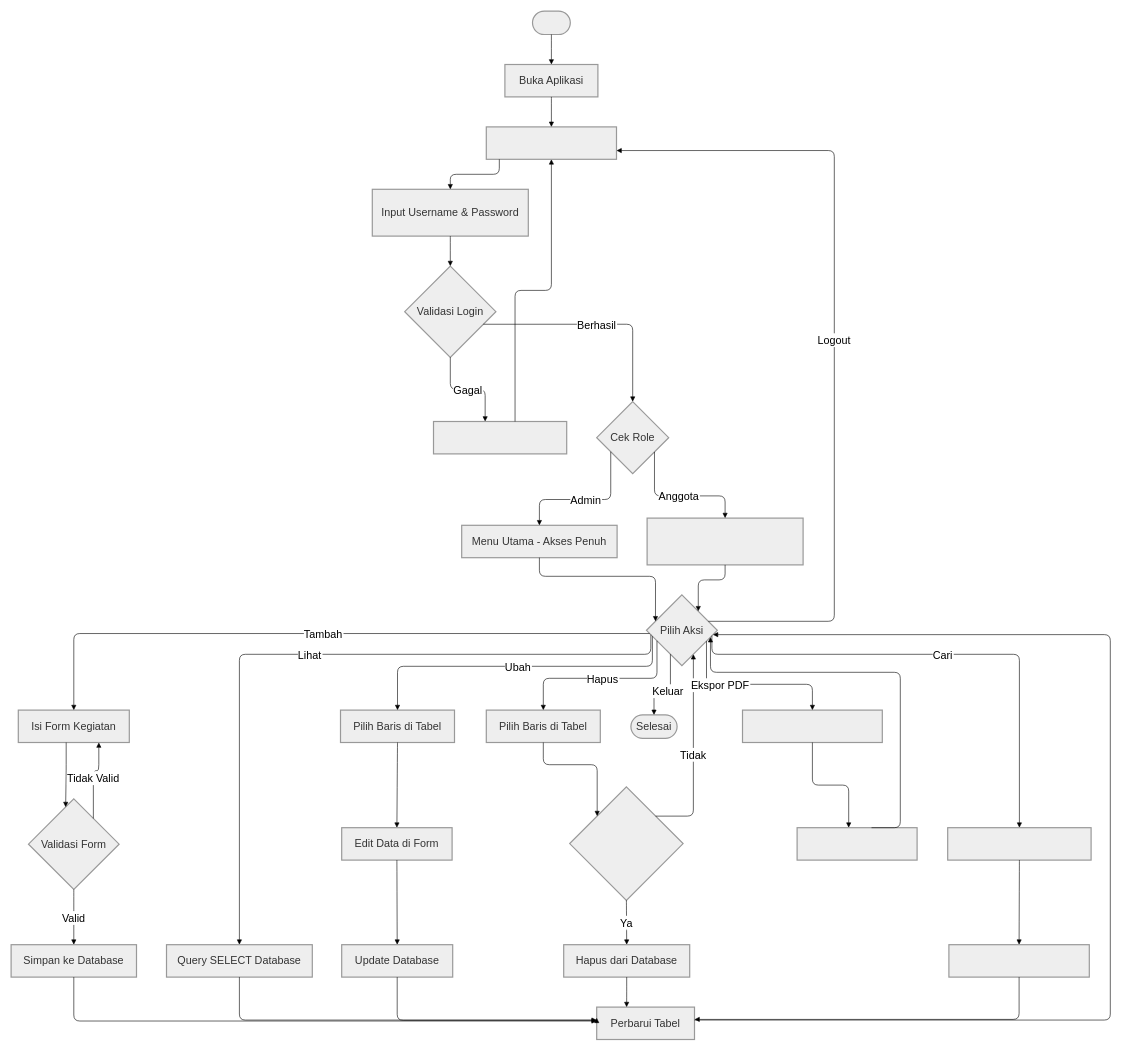
Some shapes in this 1126 by 1050 pixel diagram are drawn without their labels. Each missing label, with the centre of its shape:
"File PDF Tersimpan" belongs at (x=856, y=843).
"Generate PDF dari Data" belongs at (x=812, y=726).
"Input Keyword Pencarian" belongs at (x=1019, y=843).
"Konfirmasi Hapus?" belongs at (x=626, y=843).
"Menu Utama - Akses Terbatas" belongs at (x=724, y=541).
"Mulai" belongs at (x=551, y=22).
"Query SELECT WHERE" belongs at (x=1019, y=960).
"Tampilkan Form Login" belongs at (x=551, y=143).
"Tampilkan Pesan Error" belongs at (x=500, y=437).
